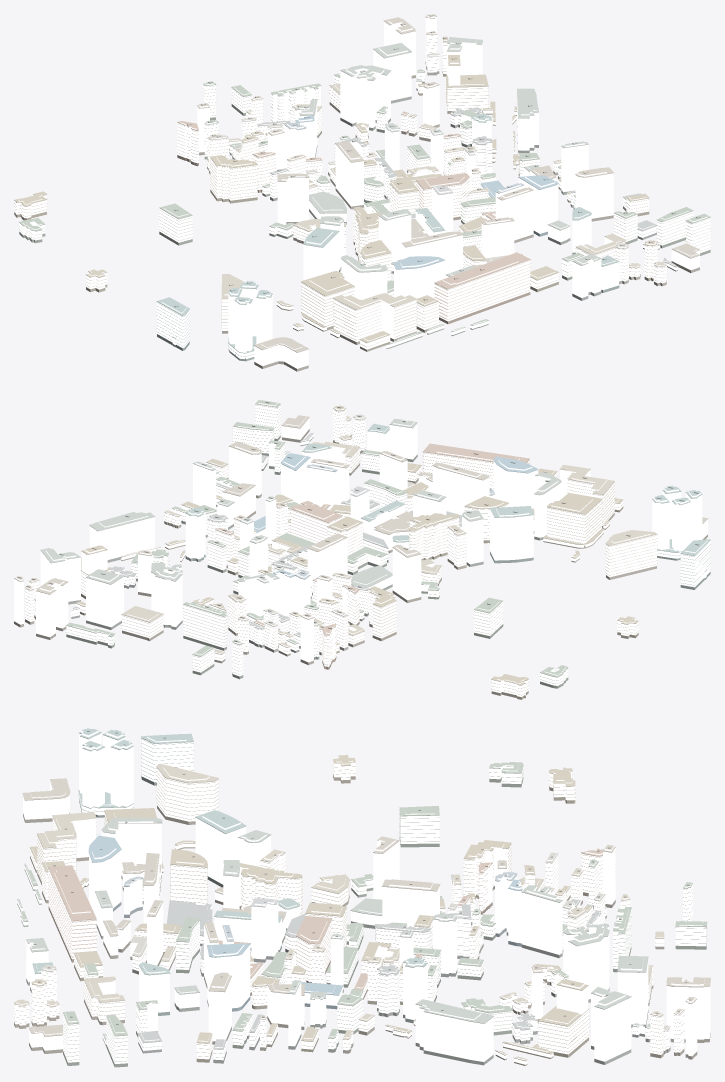
The model's file is buildings-8_1-fine.glb.
The picture shows the model from 3 angles, top to bottom: view 1: azimuth 30°, elevation 25°; view 2: azimuth 150°, elevation 25°; view 3: azimuth 270°, elevation 25°; orthographic projection. The views are drawn at different scales.
Visible parts, largest first — view 1: block_8_1_residential, block_8_1_office, block_8_1_roof, block_8_1_darkglass, block_8_1_concrete, block_8_1_steel; view 2: block_8_1_office, block_8_1_residential, block_8_1_roof, block_8_1_darkglass, block_8_1_concrete, block_8_1_steel; view 3: block_8_1_office, block_8_1_residential, block_8_1_roof, block_8_1_darkglass, block_8_1_concrete, block_8_1_steel.
Boxes of the visible parts, box(x1,y1,x2,y2) form: block_8_1_residential: box(14, 32, 710, 359); block_8_1_office: box(172, 15, 699, 368); block_8_1_roof: box(14, 14, 710, 364); block_8_1_darkglass: box(14, 62, 710, 371); block_8_1_concrete: box(14, 34, 710, 356); block_8_1_steel: box(173, 16, 699, 352); block_8_1_office: box(14, 417, 707, 662); block_8_1_residential: box(25, 403, 710, 696); block_8_1_roof: box(14, 400, 710, 694); block_8_1_darkglass: box(14, 429, 710, 699); block_8_1_concrete: box(25, 404, 710, 695); block_8_1_steel: box(14, 417, 707, 619); block_8_1_office: box(23, 730, 710, 1061); block_8_1_residential: box(14, 736, 706, 1064); block_8_1_roof: box(14, 728, 710, 1063); block_8_1_darkglass: box(14, 774, 710, 1067); block_8_1_concrete: box(14, 736, 706, 1061); block_8_1_steel: box(25, 732, 709, 1036).
Bounding box in the file's own units: 656 × 72.63 × 655.
